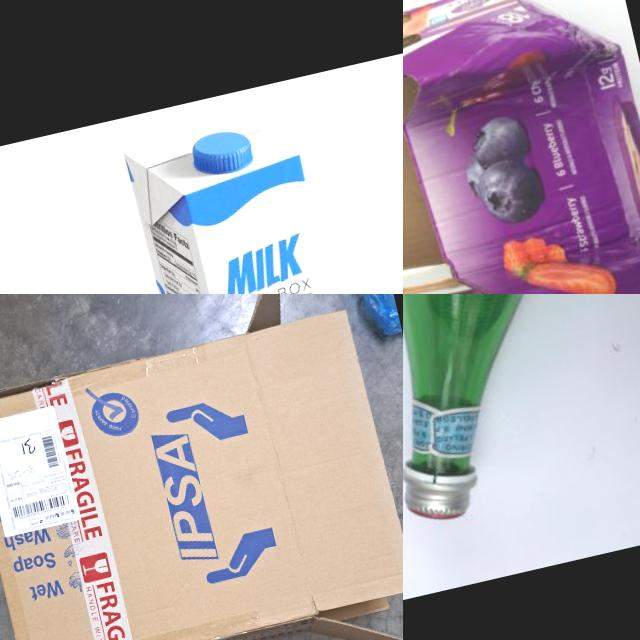caixinha: (118, 103, 370, 294)
garrafa de vidro: (403, 294, 640, 522)
papelão: (0, 294, 403, 640), (403, 0, 640, 294)
sacola plástica: (308, 294, 401, 346)
